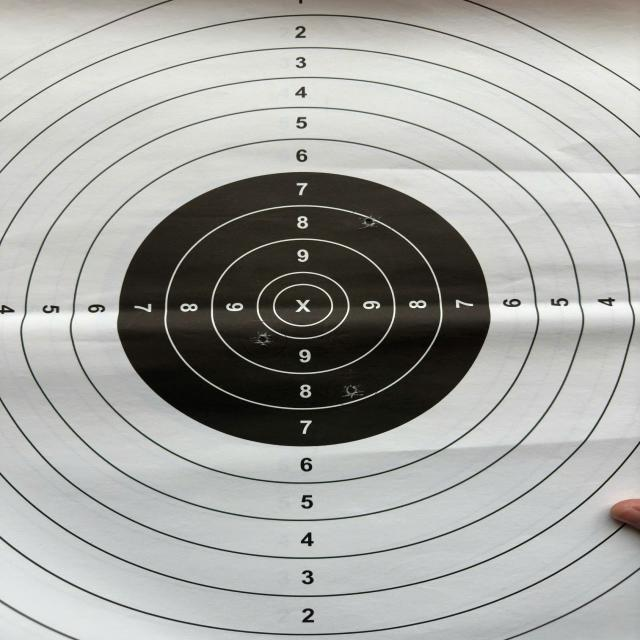bullet: (342, 384, 364, 399), (254, 332, 272, 346), (362, 216, 379, 228)
target: (0, 0, 640, 640)
